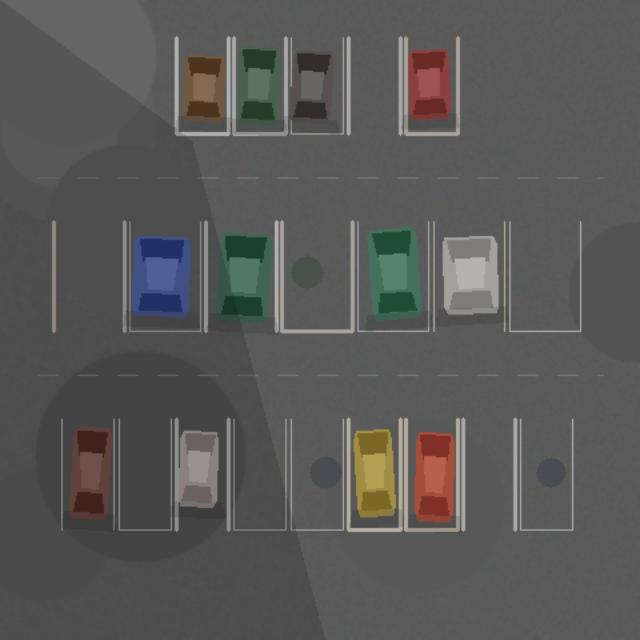space-empty: (53, 221, 124, 331), (281, 221, 352, 331), (509, 221, 580, 331), (119, 419, 171, 529), (233, 419, 285, 529), (291, 419, 343, 529), (463, 419, 515, 529), (520, 419, 572, 529), (348, 37, 400, 133)
space-occupied: (129, 221, 200, 331), (205, 221, 276, 331), (357, 221, 428, 331), (433, 221, 504, 331), (61, 419, 113, 529), (176, 419, 228, 529), (348, 419, 400, 529), (405, 419, 457, 529), (176, 37, 228, 133), (233, 37, 285, 133), (291, 37, 343, 133), (405, 37, 457, 133)
